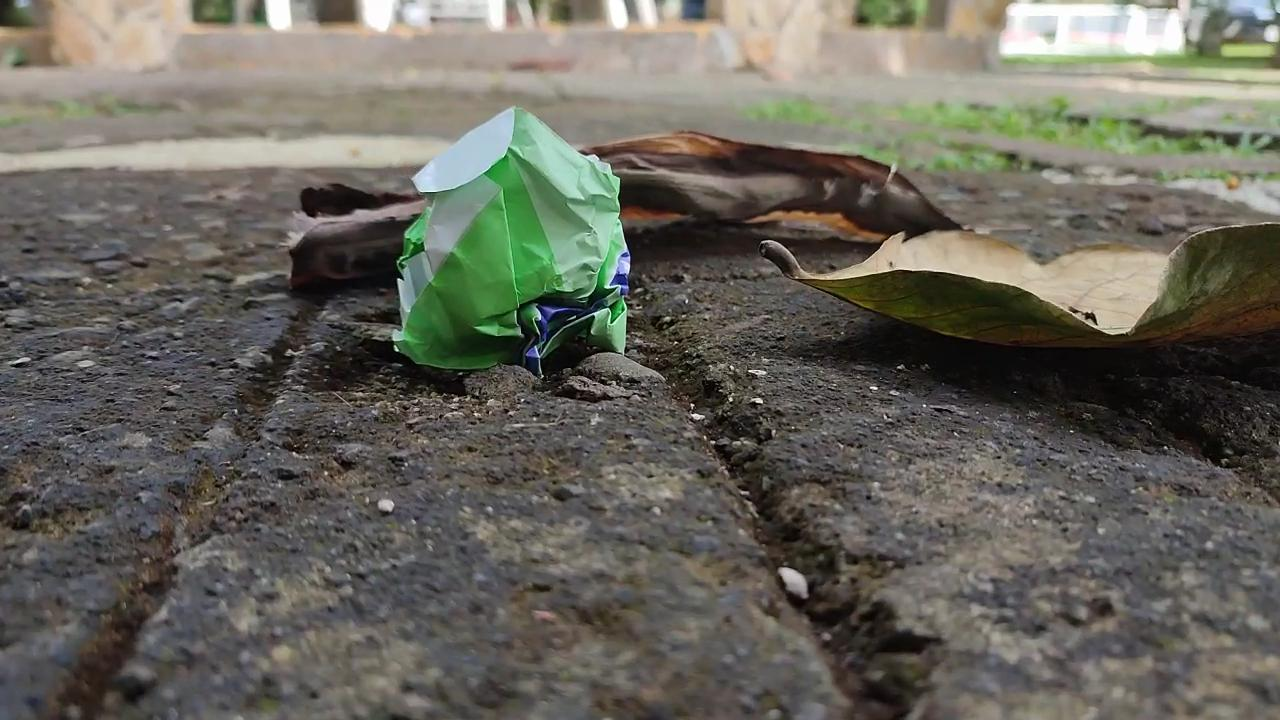Paper: (372, 81, 650, 387)
